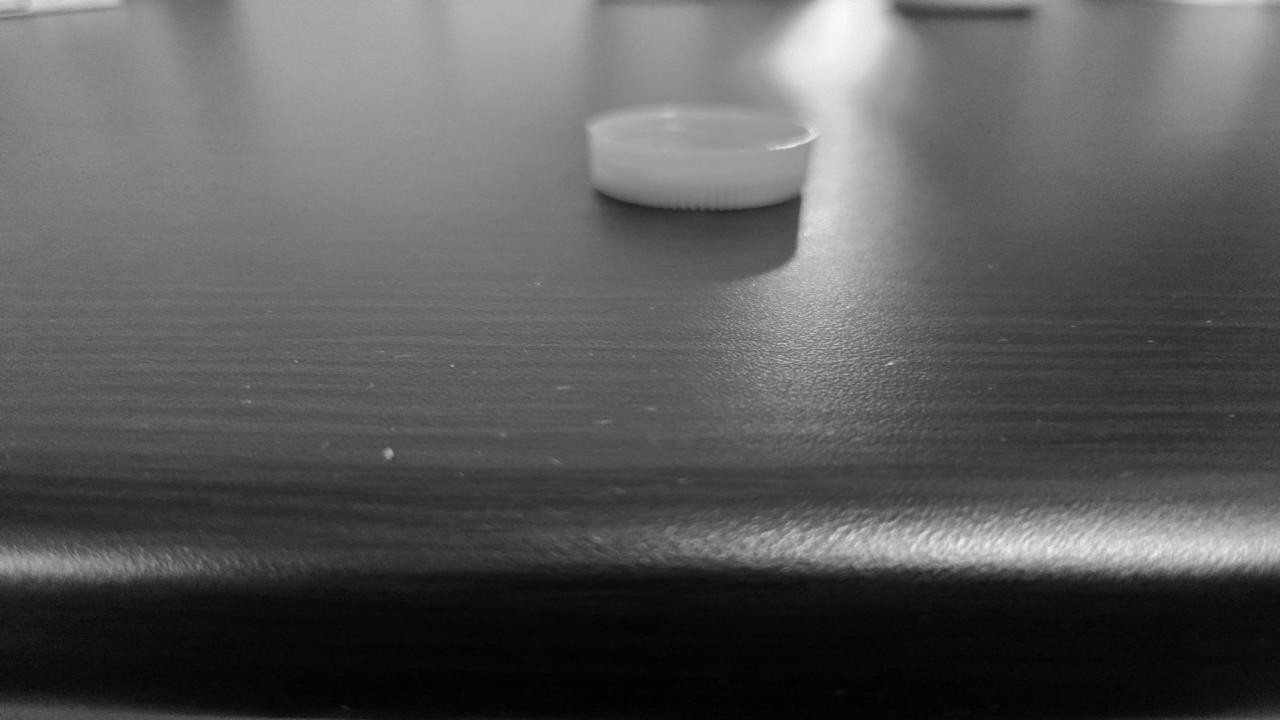bottle_cap: (594, 109, 810, 205)
